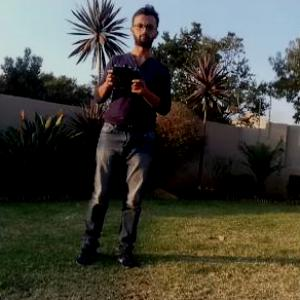follow: (71, 0, 178, 273)
